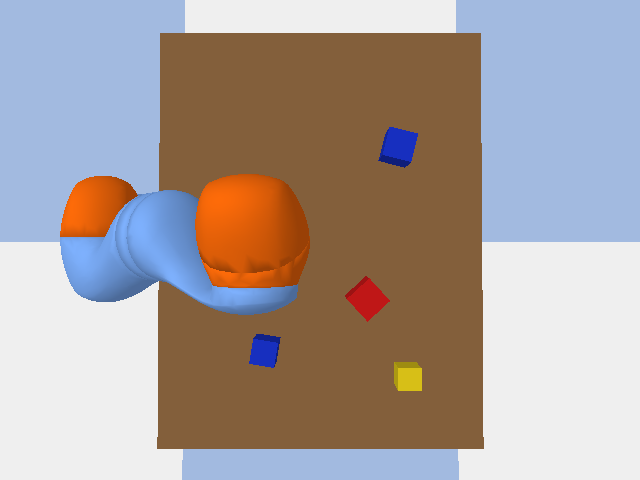blue_obj: (378, 127, 417, 167), (249, 334, 280, 367)
red_obj: (345, 276, 389, 321)
yellow_obj: (394, 362, 421, 390)
